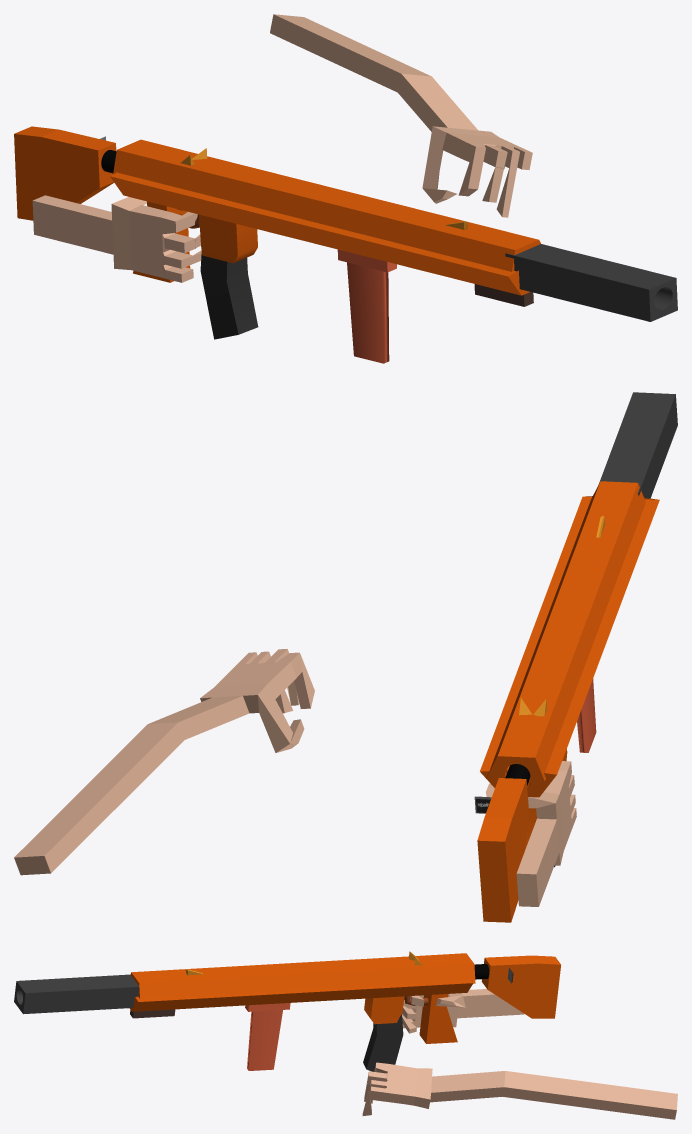
Rendered from ar reload 9.fbx.
3 renders of one model, top to bottom at view 1: azimuth 30°, elevation 25°; view 2: azimuth 150°, elevation 25°; view 3: azimuth 270°, elevation 25°, orthographic. The views are drawn at different scales.
Visible parts, largest first — view 1: Cube.011, Cube.013, Cube, Cube.008, Cube.005, Cube.009, Cube.012, Cube.004, Cube.010, Cube.003; view 2: Cube.011, Cube.013, Cube.008, Cube.009, Cube.005, Cube, Cube.012; view 3: Cube.011, Cube.013, Cube.008, Cube.005, Cube.009, Cube, Cube.012, Cube.004, Cube.002, Cube.010, Cube.003.
Part boxes in pixels (<box>): Cube.011: <box>113,139,540,271</box>; Cube.013: <box>270,14,532,217</box>; Cube: <box>32,195,201,282</box>; Cube.008: <box>110,171,529,295</box>; Cube.005: <box>505,244,677,321</box>; Cube.009: <box>14,126,116,220</box>; Cube.012: <box>337,249,396,363</box>; Cube.004: <box>200,252,258,339</box>; Cube.010: <box>199,214,257,263</box>; Cube.003: <box>474,284,533,306</box>; Cube.011: <box>486,481,645,783</box>; Cube.013: <box>14,649,314,875</box>; Cube.008: <box>480,496,659,797</box>; Cube.009: <box>477,778,529,922</box>; Cube.005: <box>599,392,677,498</box>; Cube: <box>486,761,576,906</box>; Cube.012: <box>577,678,596,752</box>; Cube.011: <box>130,953,475,999</box>; Cube.013: <box>362,1062,677,1119</box>; Cube.008: <box>129,980,473,1011</box>; Cube.005: <box>14,974,139,1014</box>; Cube.009: <box>481,955,560,1018</box>; Cube: <box>402,989,524,1033</box>; Cube.012: <box>245,1003,290,1070</box>; Cube.004: <box>363,1014,403,1071</box>; Cube.002: <box>419,994,457,1043</box>; Cube.010: <box>364,996,404,1024</box>; Cube.003: <box>130,1009,175,1018</box>.
Bounding box in the file's own units: 969 × 504 × 2113.
11 materials, 1 textured.
